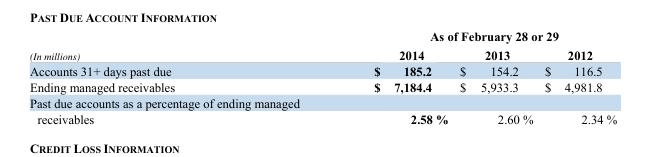table: (28, 28, 616, 125)
table column: (28, 28, 273, 125), (273, 28, 453, 125), (453, 28, 538, 125), (538, 28, 616, 125)
table column header: (28, 28, 616, 62)
table projected row header: (28, 94, 616, 110)
table row: (28, 28, 616, 45), (28, 45, 616, 62), (28, 62, 616, 78), (28, 78, 616, 94), (28, 94, 616, 110), (28, 110, 616, 125)
table spanning cell: (28, 28, 273, 62), (273, 28, 616, 45)
